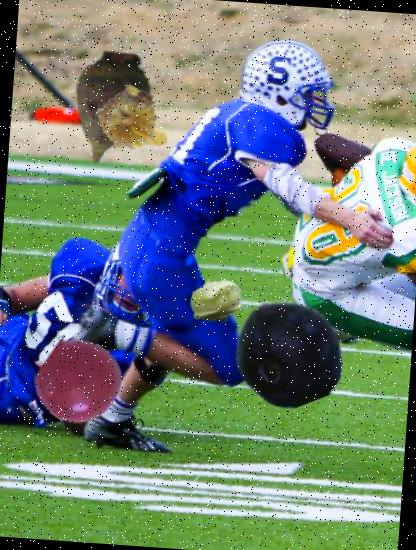Beetroot: (46, 45, 176, 174)
Blueberry: (230, 294, 346, 410)
Kohlrabi: (186, 270, 246, 330)
Physalis: (92, 80, 176, 164)
Redcurrant: (34, 336, 124, 426)
